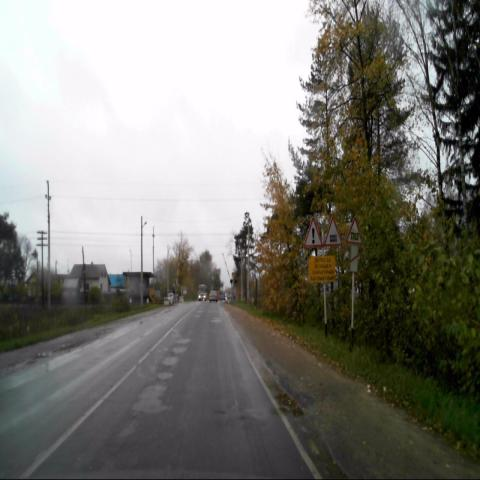1_1: (324, 215, 343, 246), (345, 216, 363, 246)
1_33: (304, 217, 322, 248)
